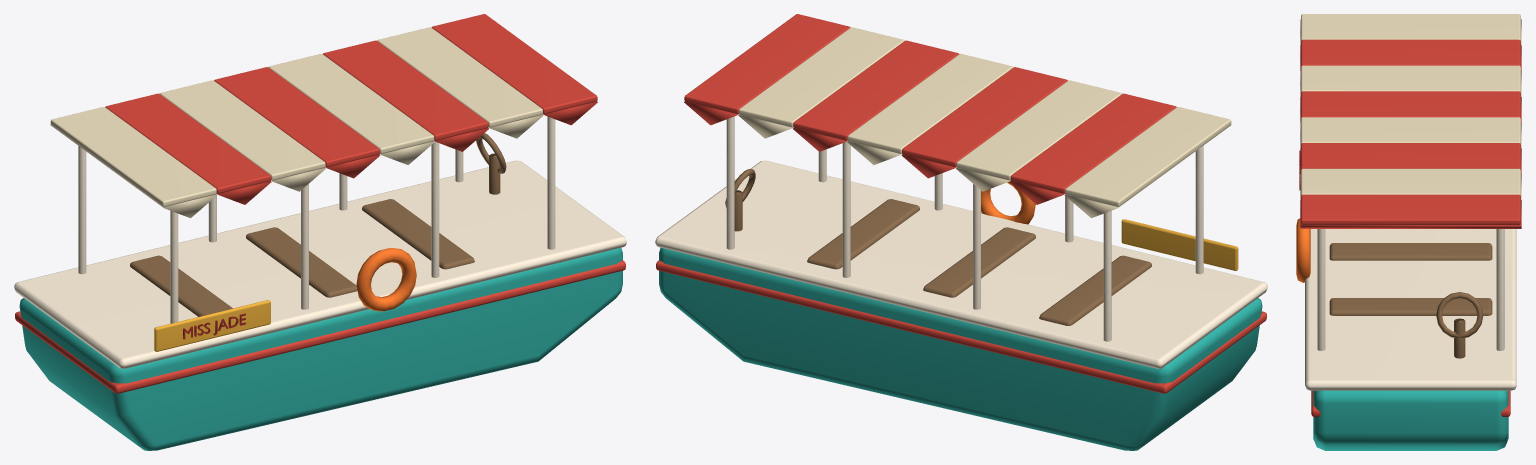
File: jungle_boat.glb
The picture shows the model from 3 angles, left to right: view 1: azimuth 30°, elevation 25°; view 2: azimuth 150°, elevation 25°; view 3: azimuth 270°, elevation 25°; orthographic projection. The views are drawn at different scales.
Parts seen in each view (by area): view 1: Boat; view 2: Boat; view 3: Boat.
Boxes of the visible parts, bbox=[...] form: Boat: bbox=[14, 14, 626, 450]; Boat: bbox=[655, 14, 1267, 450]; Boat: bbox=[1296, 14, 1521, 450].
Size of the model in its own units: 7.08 by 3.46 by 2.77.
